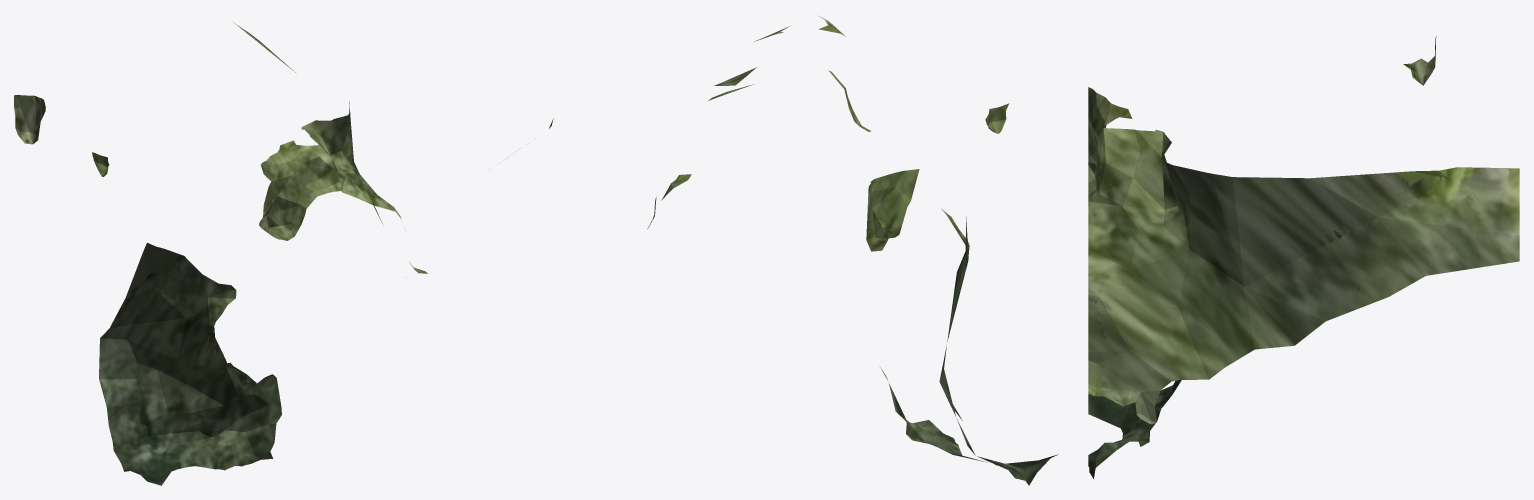
The picture shows the model from 3 angles, left to right: view 1: azimuth 30°, elevation 25°; view 2: azimuth 150°, elevation 25°; view 3: azimuth 270°, elevation 25°; orthographic projection. The views are drawn at different scales.
Bounding box in the file's own units: 2.95 × 2.95 × 2.95.
Materials: 2 (2 with a texture image).
